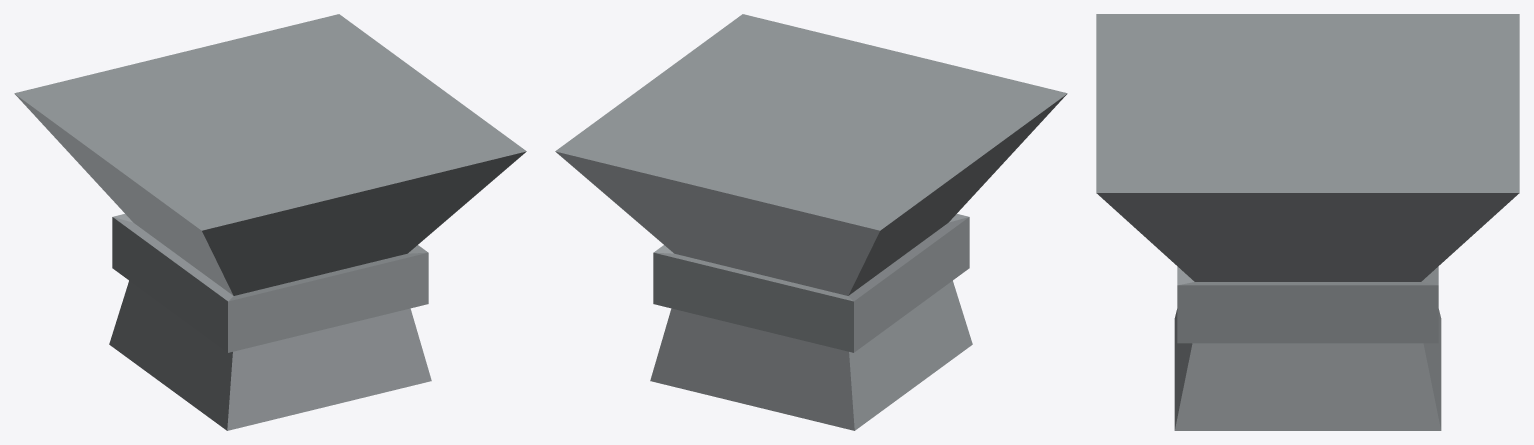
File: ARMpart0.obj
3 renders of one model, left to right at view 1: azimuth 30°, elevation 25°; view 2: azimuth 150°, elevation 25°; view 3: azimuth 270°, elevation 25°, orthographic. The views are drawn at different scales.
Visible parts, largest first — view 1: pCube11; view 2: pCube11; view 3: pCube11.
Boxes of the visible parts, x1=… form: pCube11: x1=14, y1=14, x2=526, y2=430; pCube11: x1=555, y1=14, x2=1067, y2=430; pCube11: x1=1096, y1=14, x2=1519, y2=430.
Size of the model in its own units: 0.3263 by 0.2305 by 0.3263.
Materials: 1 (1 with a texture image).
